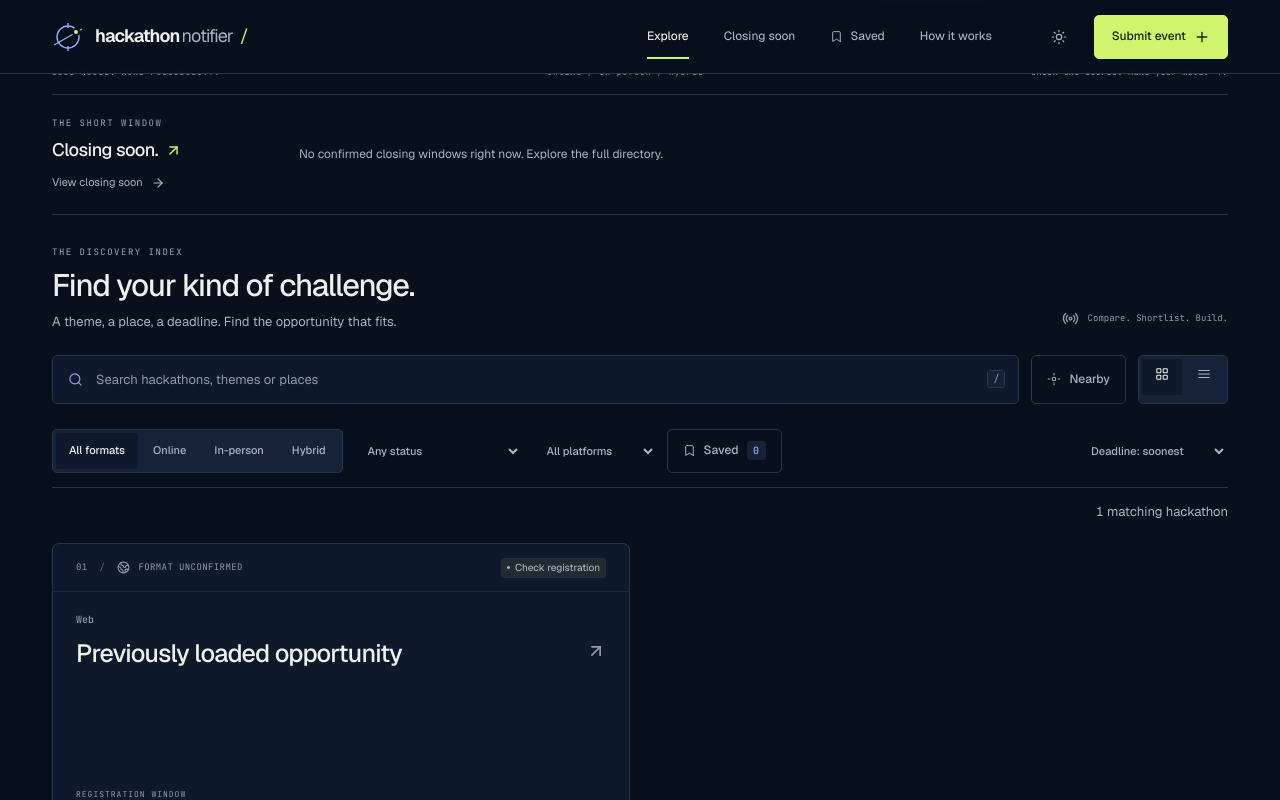
Scenario: keeps previous results visible and labels them after a failed filter refresh
(page scrolled)
Expected: the heading "Previously loaded opportunity" is shown, [76,638,606,682]
Click the button "In-person" at (239, 451), box [201,433,277,469]
(page scrolled)
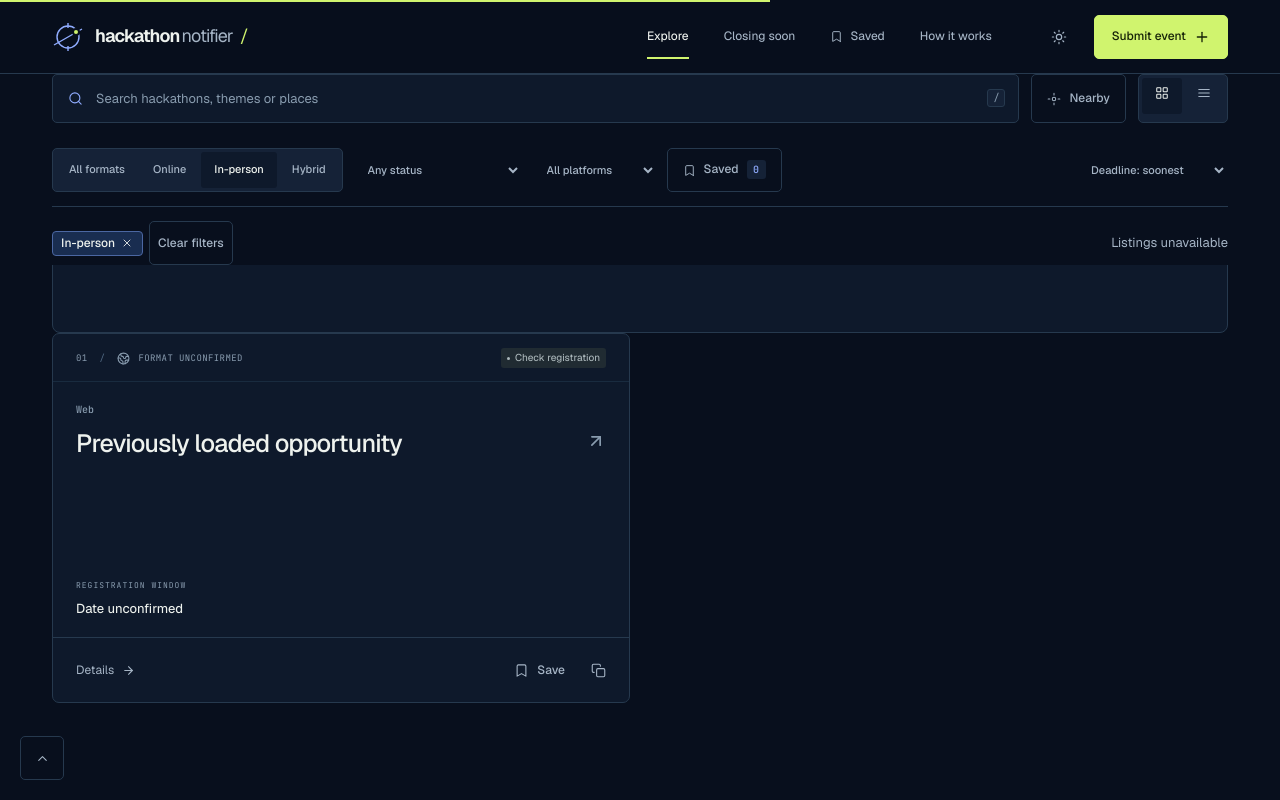
Expected: the heading "Previously loaded opportunity" is shown, [76,428,606,472]
Expected: the message "Unable to load hackathons Refresh failed Try again" is shown, [52,103,1228,333]
Expected: the text "Previously loaded results are shown below." is shown, [52,73,304,86]
